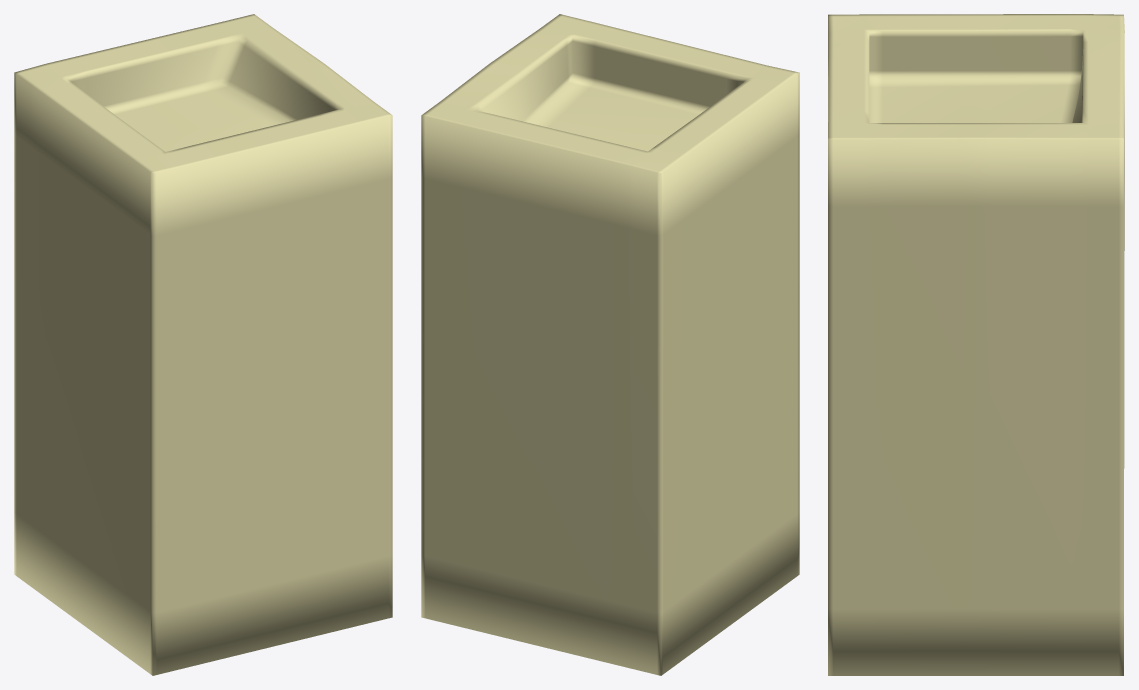
The model's file is Candle.fbx.
3 renders of one model, left to right at view 1: azimuth 30°, elevation 25°; view 2: azimuth 150°, elevation 25°; view 3: azimuth 270°, elevation 25°, orthographic. The views are drawn at different scales.
Parts seen in each view (by area): view 1: silhouette.049; view 2: silhouette.049; view 3: silhouette.049.
Part boxes in pixels (x1,y1,x2,y2): silhouette.049: (14, 14, 392, 675); silhouette.049: (421, 14, 799, 675); silhouette.049: (828, 14, 1124, 675).
Bounding box in the file's own units: 101 × 200 × 100.
